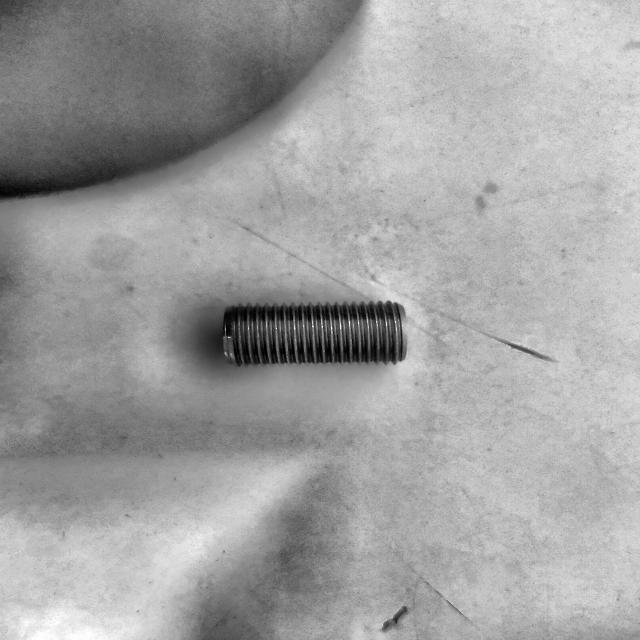Normal: (222, 300, 406, 368)
